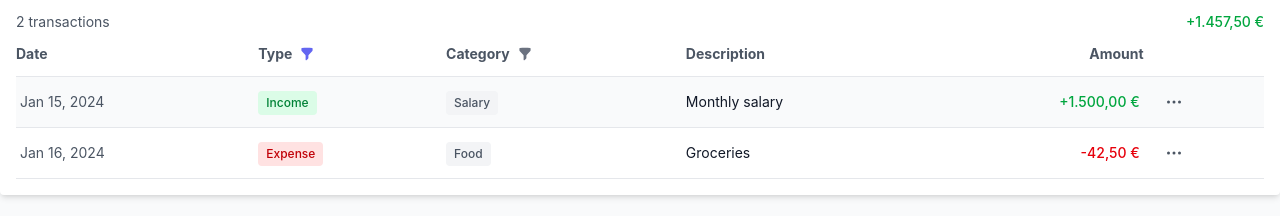
Test: TransactionTable › category filter › shows income categories when selectedTypeFilter is Income
This screenshot has width=1280, height=216.
Click the button without text next to "Category" at (525, 54), box [516,45,534,63]
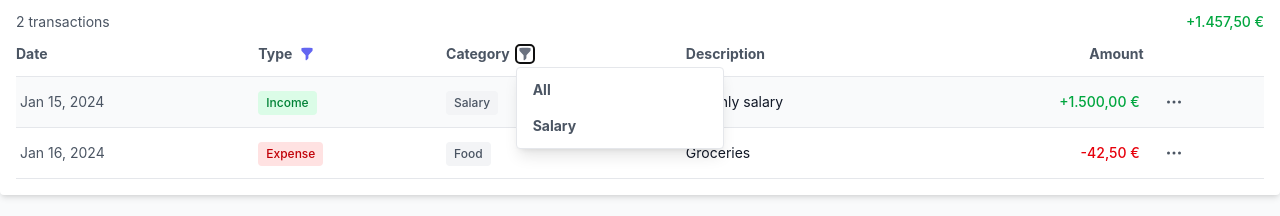
Result: the button "Salary" is shown at [517,108,723,144]
